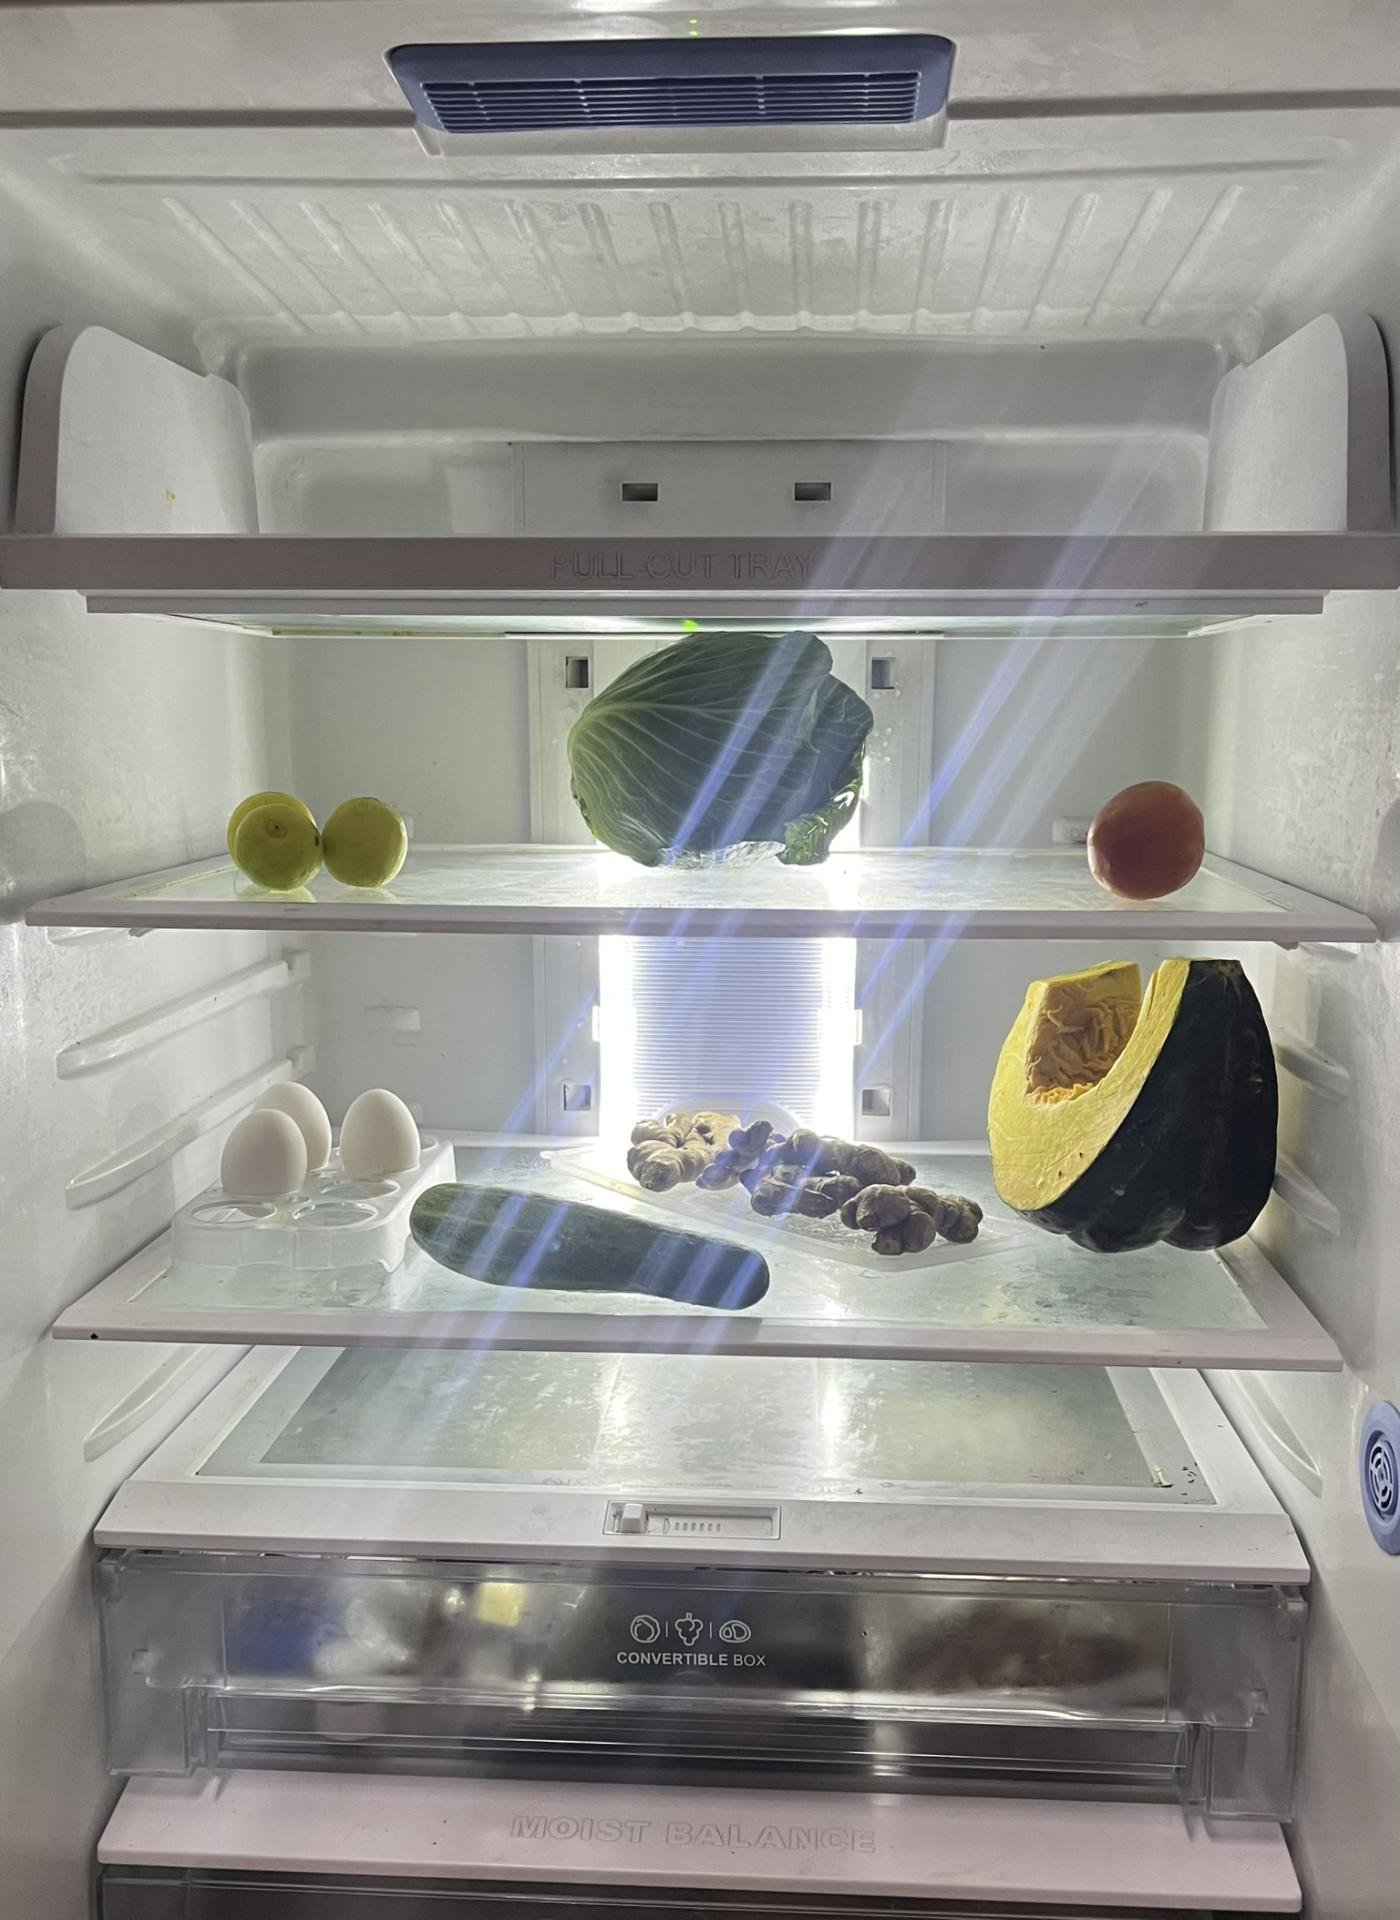cabbage: (568, 634, 875, 871)
cucumber: (414, 1181, 771, 1309)
egg: (224, 1081, 417, 1224)
ginger: (626, 1111, 980, 1254)
lemon: (228, 789, 410, 894)
pumpkin: (991, 960, 1276, 1252)
tomato: (1087, 781, 1208, 896)
